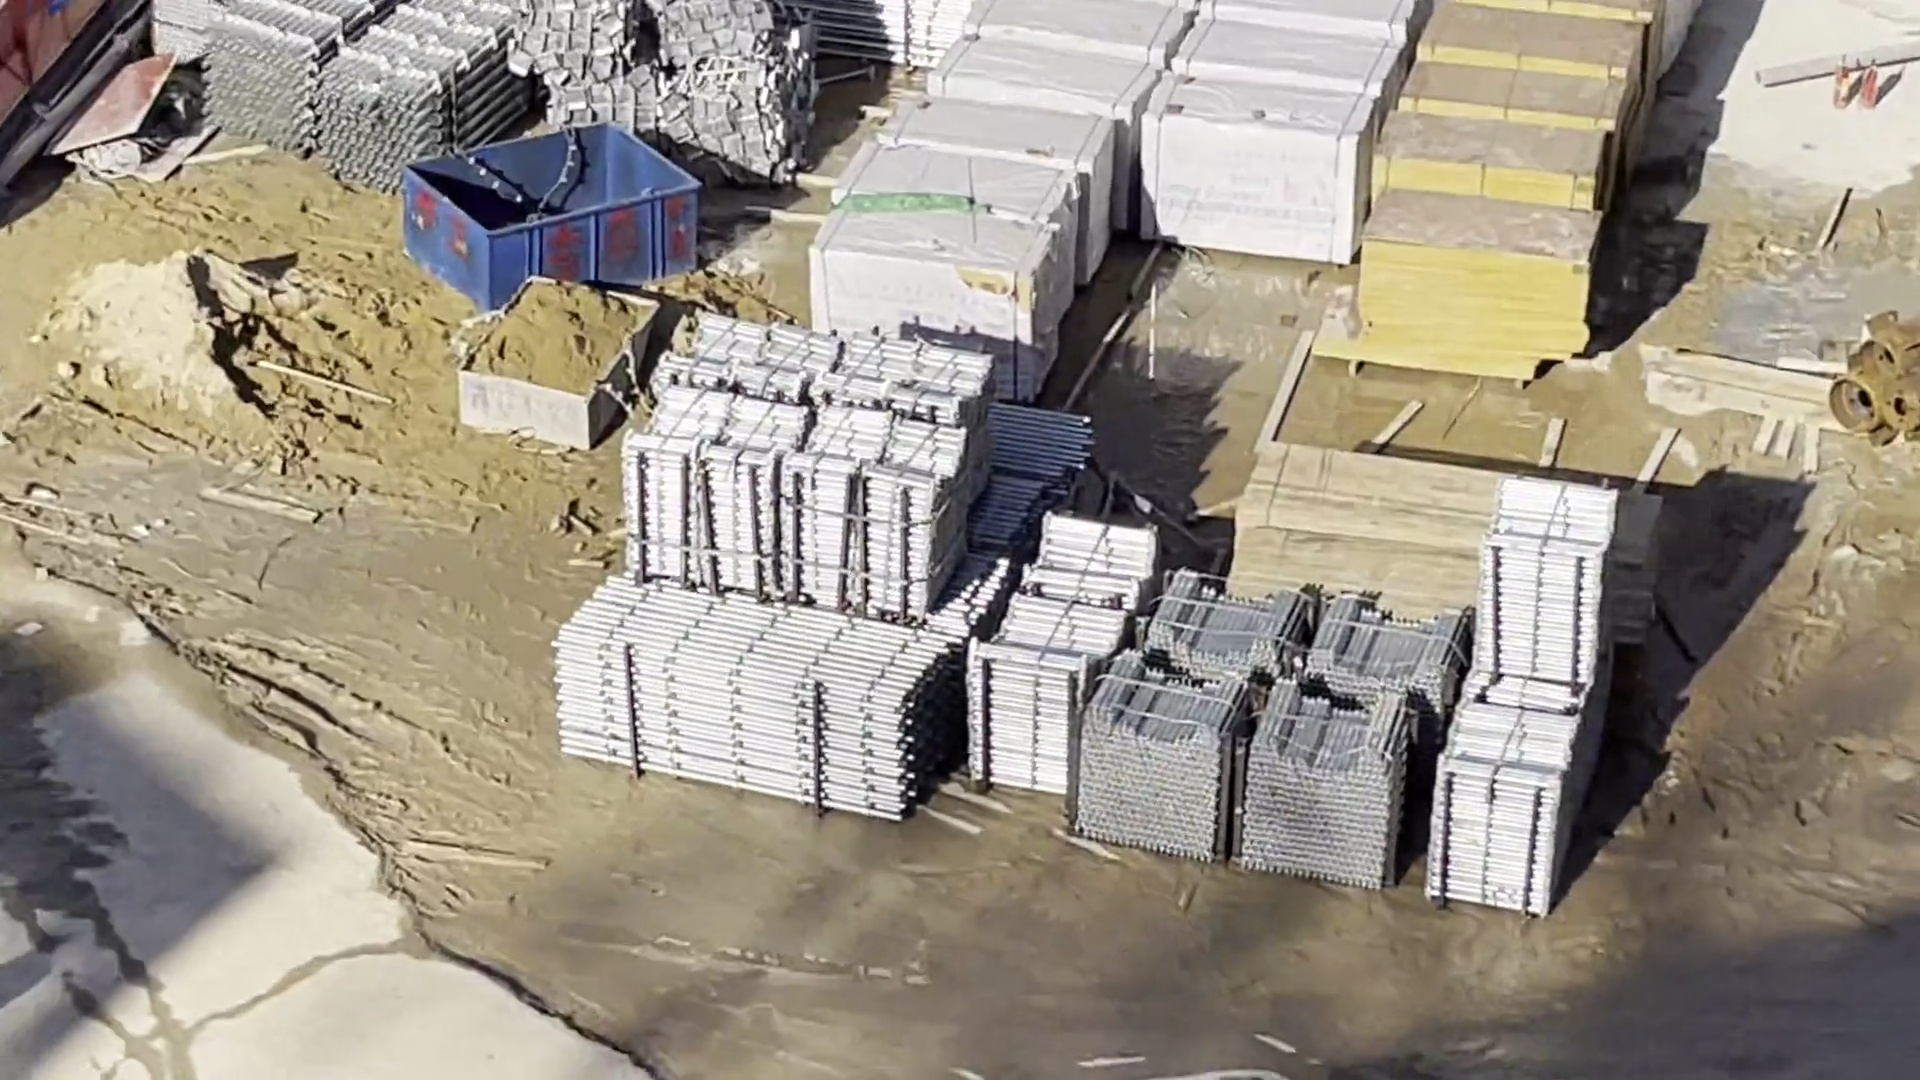board: (1373, 7, 1647, 369), (1236, 440, 1487, 616)
hopper: (401, 123, 700, 310), (462, 280, 655, 444)
scaffold: (1085, 582, 1443, 889), (644, 318, 986, 608), (556, 576, 939, 812), (1436, 493, 1609, 910), (200, 3, 531, 174), (978, 520, 1143, 789)
